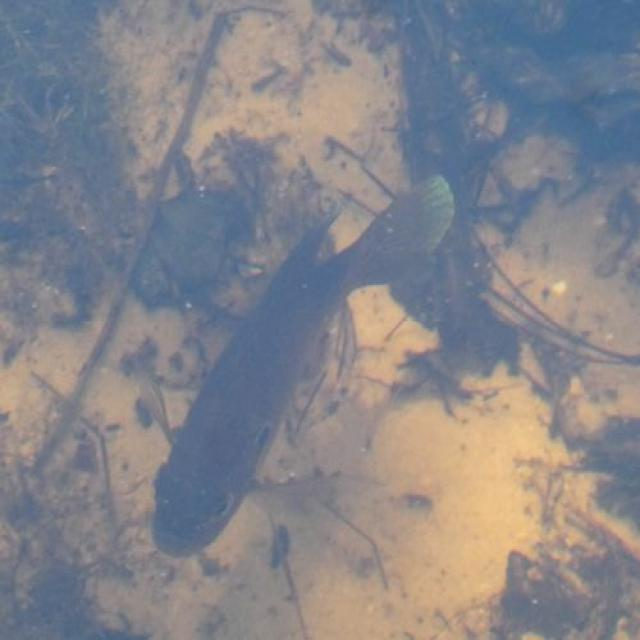Gunes Levregi: (150, 165, 456, 566)
